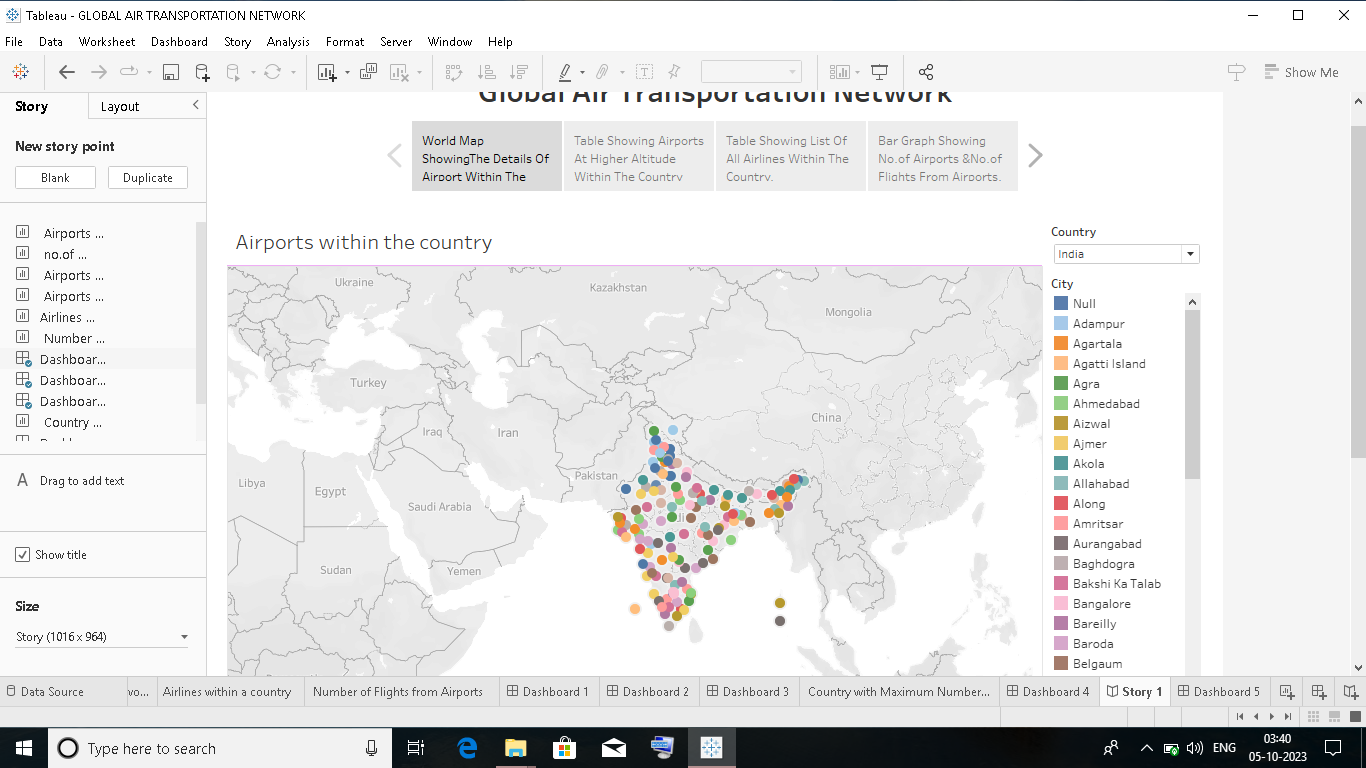

The page's visual inventory and layout, read from the dashboard file:
{"tool":"tableau","page":{"name":"Dashboard 1","canvas":[1000,800],"ordinal":0},"visuals":[{"type":"worksheet","title":" Airports within the country","mark":"Automatic","rows":["Latitude"],"cols":["Longitude","Longitude"],"box":[8,8,824,784]},{"type":"filter","title":" Airports within the country","param":"[federated.1a1zrgq1lutcvu1c68p7n0bjfrti].[none:Country:nk]","box":[832,8,160,52]},{"type":"legend","title":" Airports within the country","param":"[federated.1a1zrgq1lutcvu1c68p7n0bjfrti].[none:City:nk]","box":[832,60,160,732]}]}

Visuals, with their boxes on the page's 1000x800 design canvas (x1, y1, x2, y2). These are canvas units, not pixel positions in the 1366x768 screenshot, which may show the page scaled, cropped or inside an application window:
" Airports within the country" worksheet: (8,8,832,792)
" Airports within the country" filter: (832,8,992,60)
" Airports within the country" legend: (832,60,992,792)
